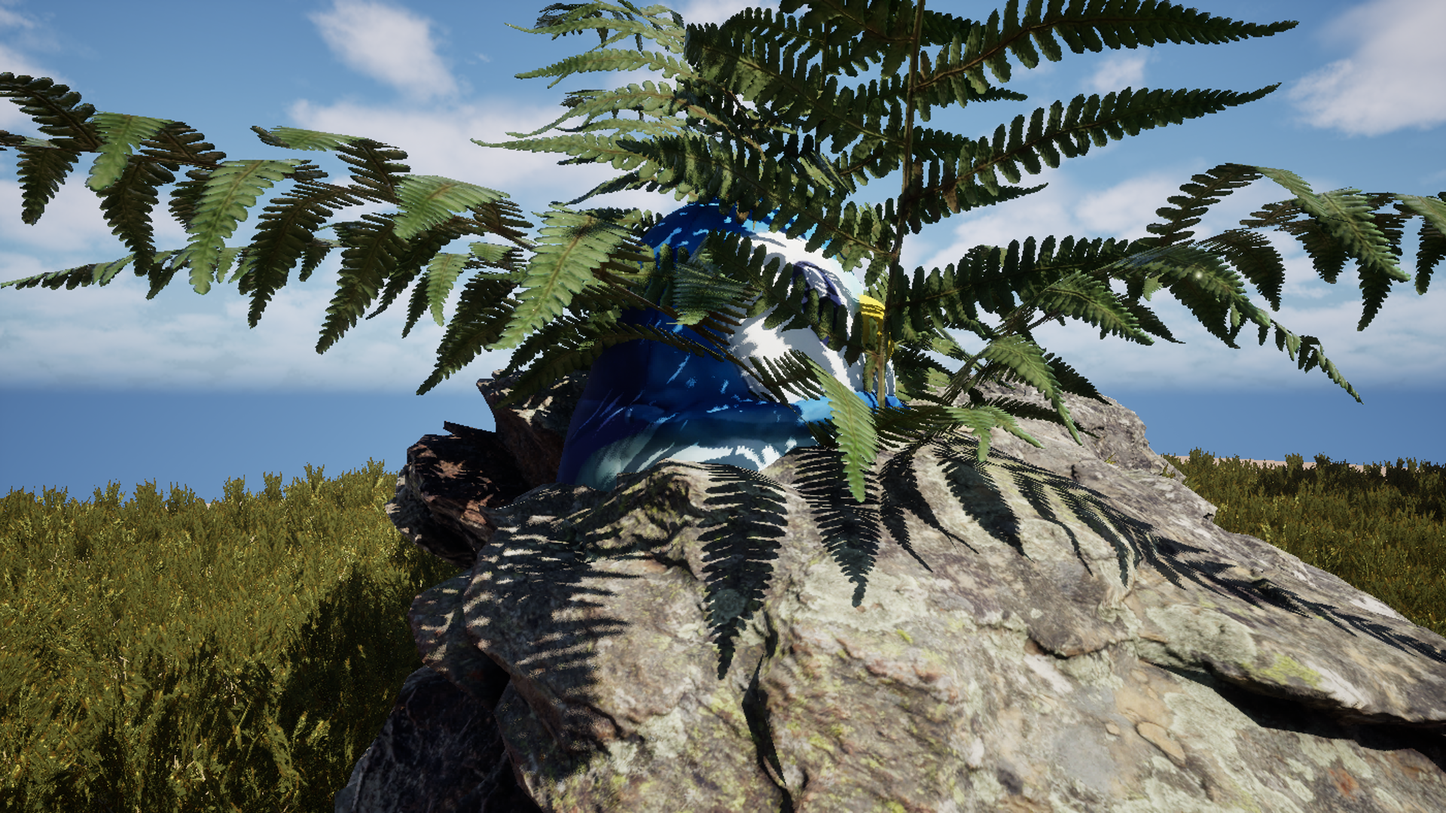Piplup: (392, 28, 1098, 785)
